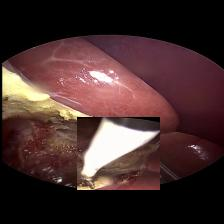Hook: (76, 117, 159, 190)
